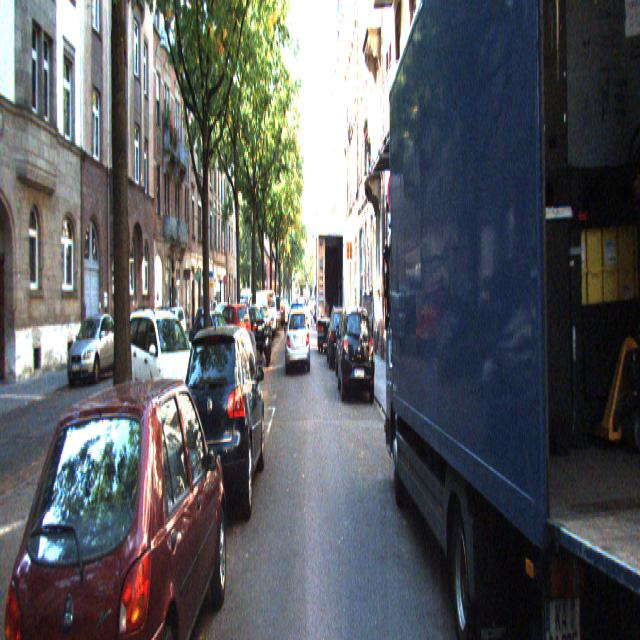Car: (380, 0, 617, 639), (0, 356, 231, 639), (174, 313, 266, 525), (121, 304, 212, 440), (63, 310, 122, 386), (188, 311, 245, 380), (337, 306, 375, 404), (315, 230, 345, 350), (208, 304, 252, 370), (227, 307, 267, 357), (284, 308, 310, 375), (245, 290, 278, 340), (326, 306, 352, 368), (289, 302, 306, 353), (261, 316, 273, 367)
